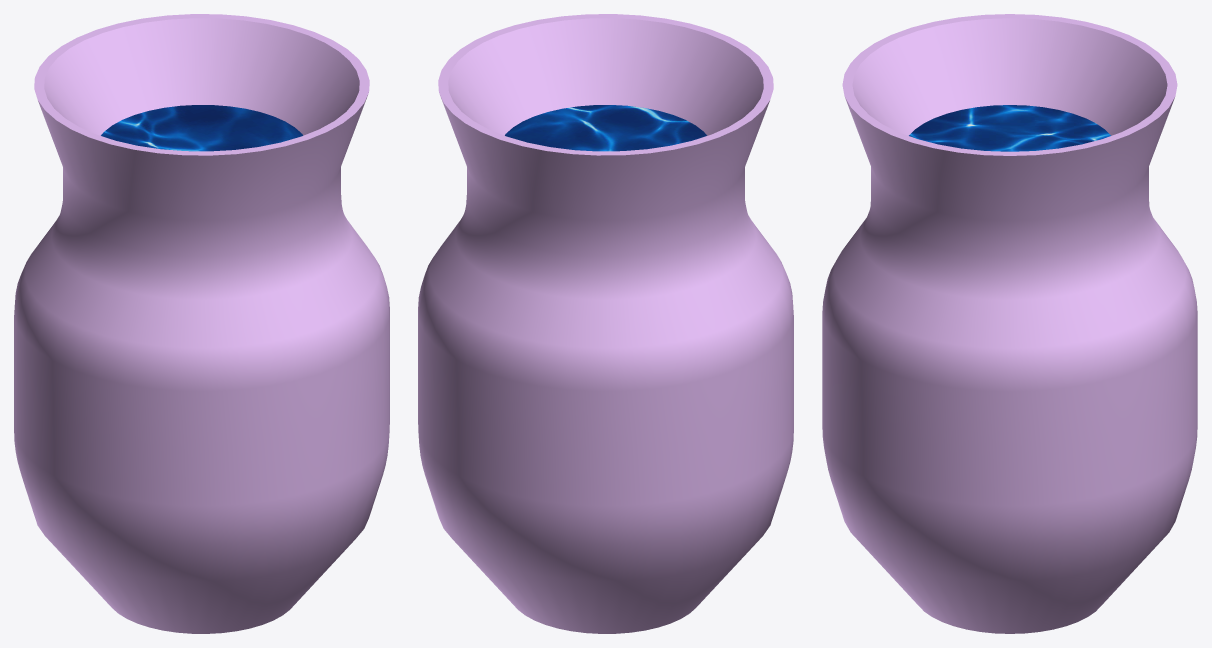
File: Vase Model.fbx
3 views of the same model, side by side, from view 1: azimuth 30°, elevation 25°; view 2: azimuth 150°, elevation 25°; view 3: azimuth 270°, elevation 25° (orthographic).
Visible parts, largest first — view 1: Vase; view 2: Vase; view 3: Vase.
Part boxes in pixels (x1,y1,x2,y2): Vase: [14, 14, 389, 633]; Vase: [418, 14, 793, 633]; Vase: [822, 14, 1197, 633].
Size of the model in its own units: 2.65 by 3.95 by 2.64.
1 material, 1 textured.
